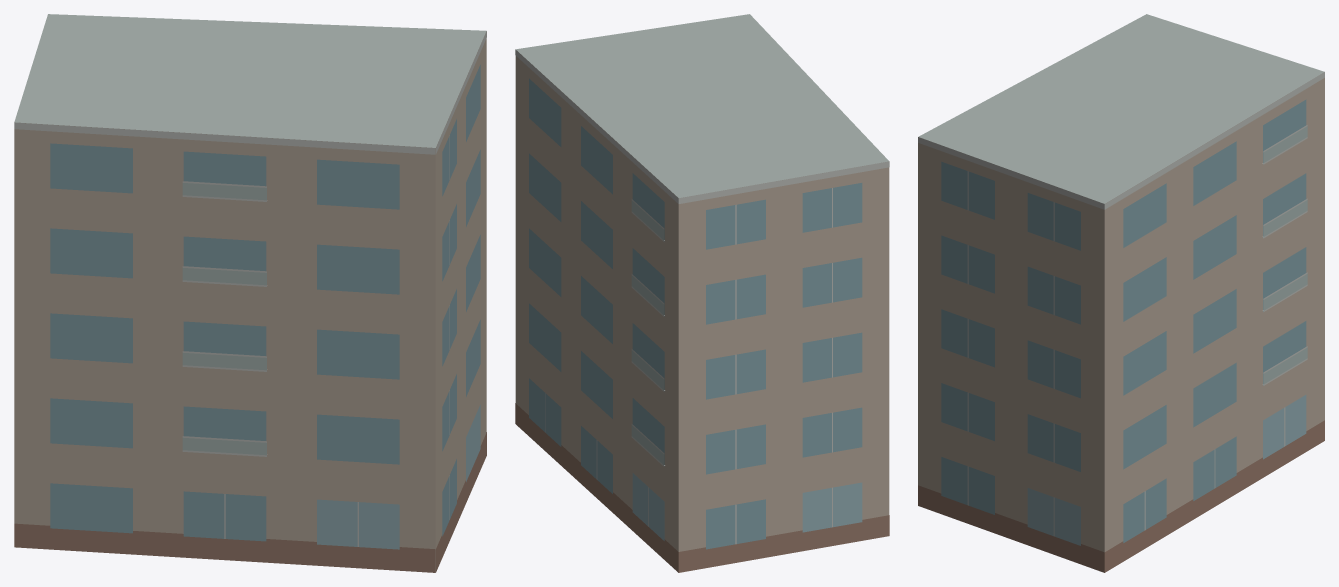
The model's file is survey-upis-32628070.glb.
3 views of the same model, side by side, from view 1: azimuth 30°, elevation 25°; view 2: azimuth 150°, elevation 25°; view 3: azimuth 270°, elevation 25° (orthographic). The views are drawn at different scales.
Visible parts, largest first — view 1: survey-upis-32628070.tmp; view 2: survey-upis-32628070.tmp; view 3: survey-upis-32628070.tmp.
Boxes of the visible parts, x1,y1,x2,y2 form: survey-upis-32628070.tmp: (14, 14, 486, 572); survey-upis-32628070.tmp: (515, 14, 889, 572); survey-upis-32628070.tmp: (918, 14, 1324, 572).
Bounding box in the file's own units: 16.85 × 15.25 × 15.25.
